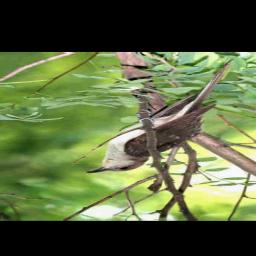Cuckoo: (84, 59, 236, 174)
